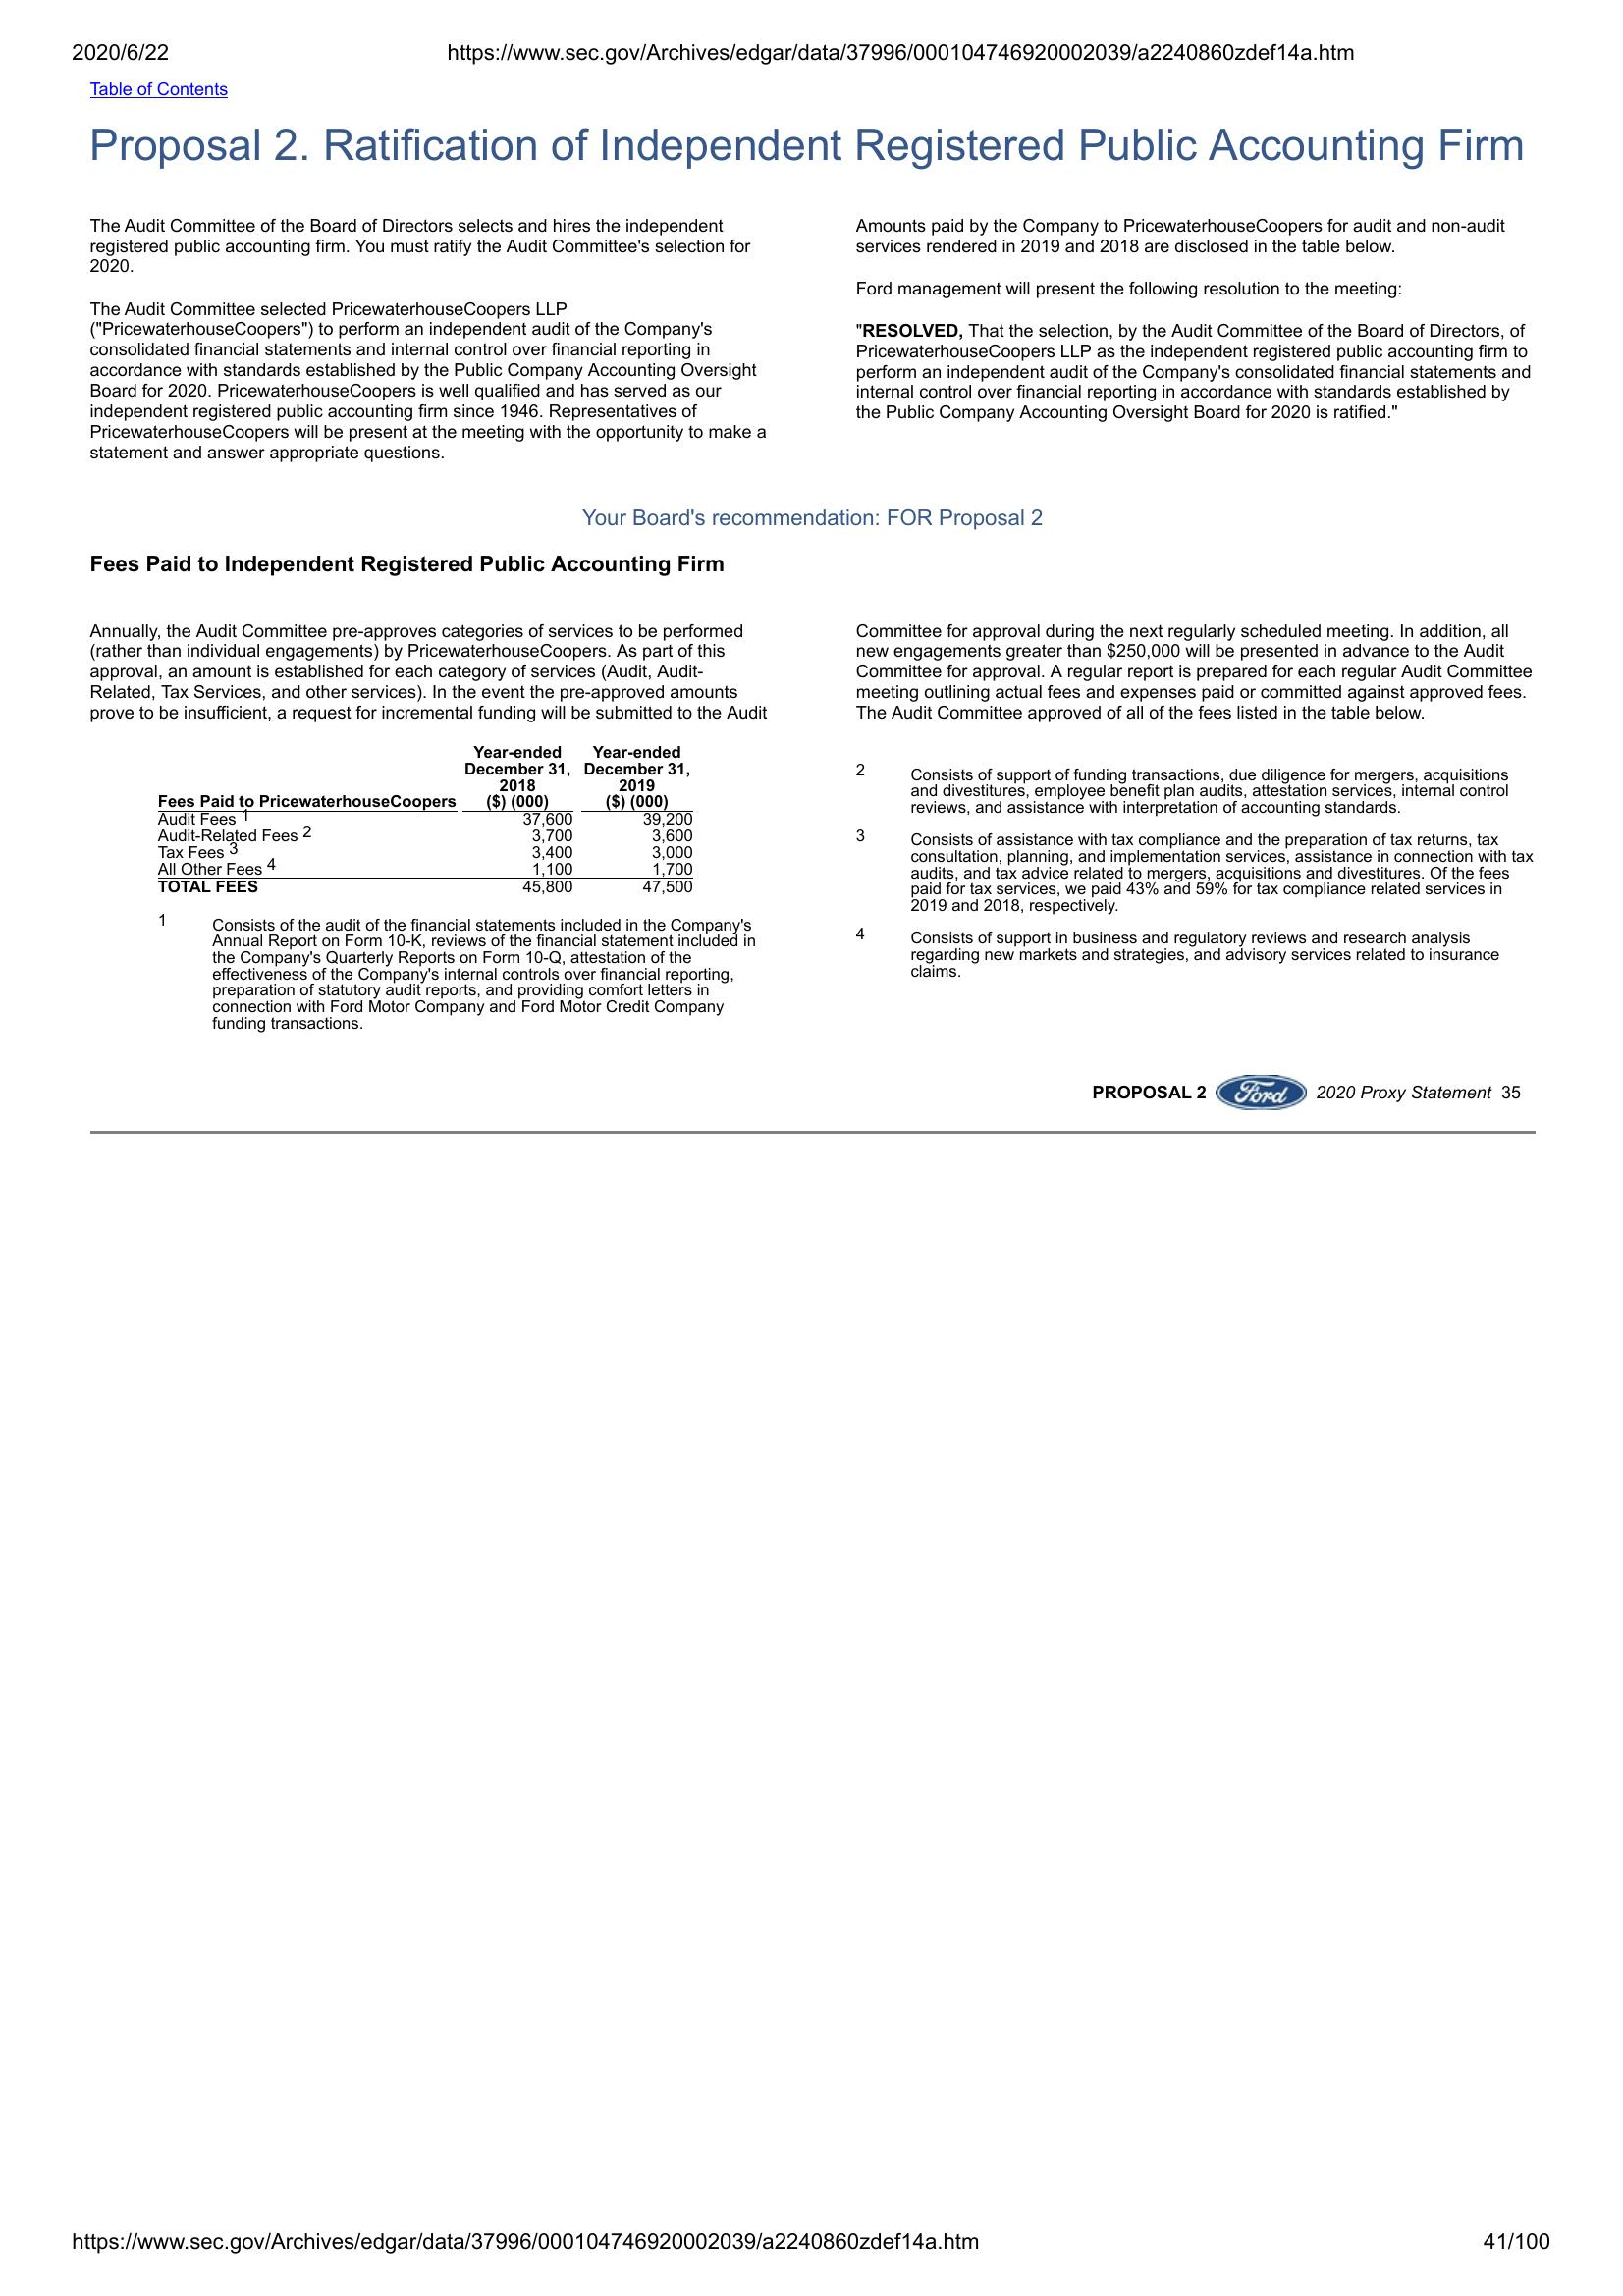table: (151, 741, 703, 902)
